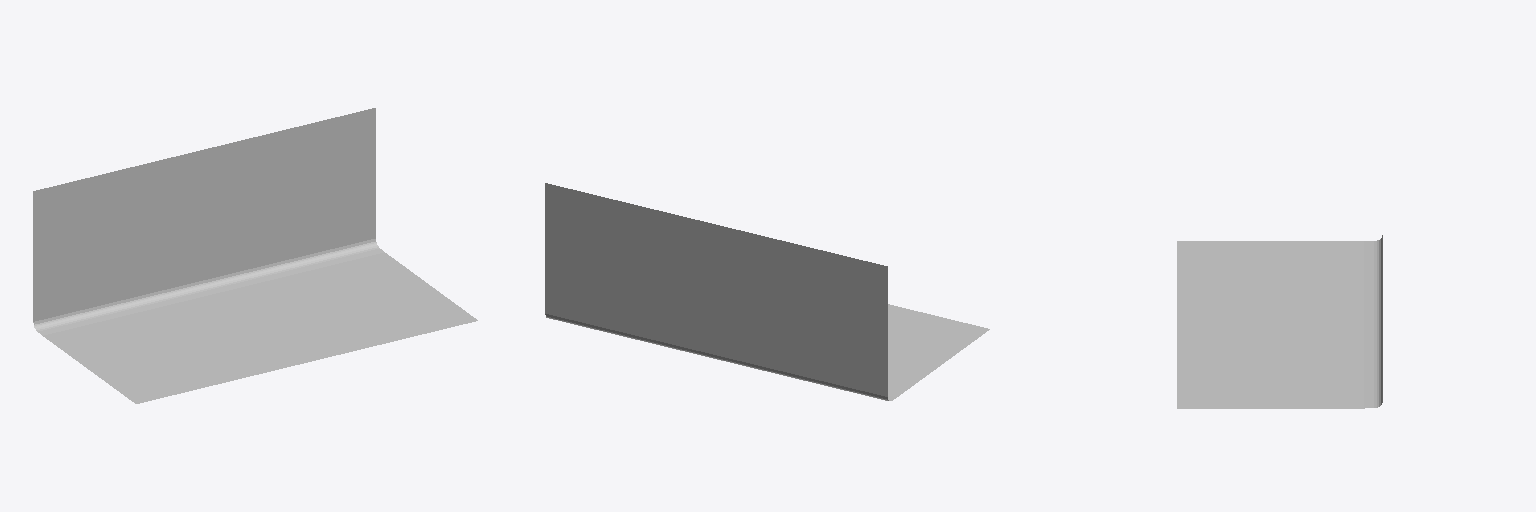
Rendered from background.obj.
The picture shows the model from 3 angles: view 1: azimuth 30°, elevation 25°; view 2: azimuth 150°, elevation 25°; view 3: azimuth 270°, elevation 25°; orthographic projection.
Parts seen in each view (by area): view 1: pasted__pPlane1 group; view 2: pasted__pPlane1 group; view 3: pasted__pPlane1 group.
Boxes of the visible parts, <box> form: pasted__pPlane1 group: <box>33,108,477,403</box>; pasted__pPlane1 group: <box>545,183,989,400</box>; pasted__pPlane1 group: <box>1177,235,1382,408</box>.
Bounding box in the file's own units: 303 × 117 × 158.